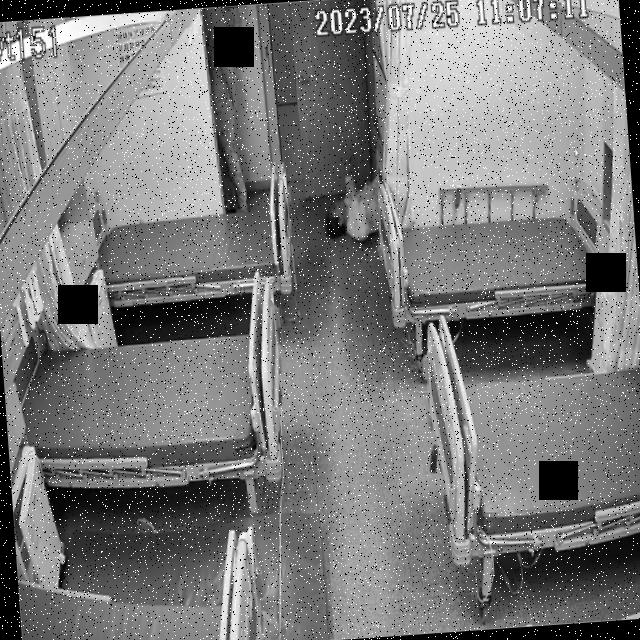bed: (420, 301, 640, 561), (15, 321, 288, 491), (374, 192, 616, 328), (97, 194, 292, 306)
fall: (322, 150, 386, 240)
patient: (205, 5, 252, 212), (321, 144, 387, 242)
stand: (203, 5, 252, 211)
